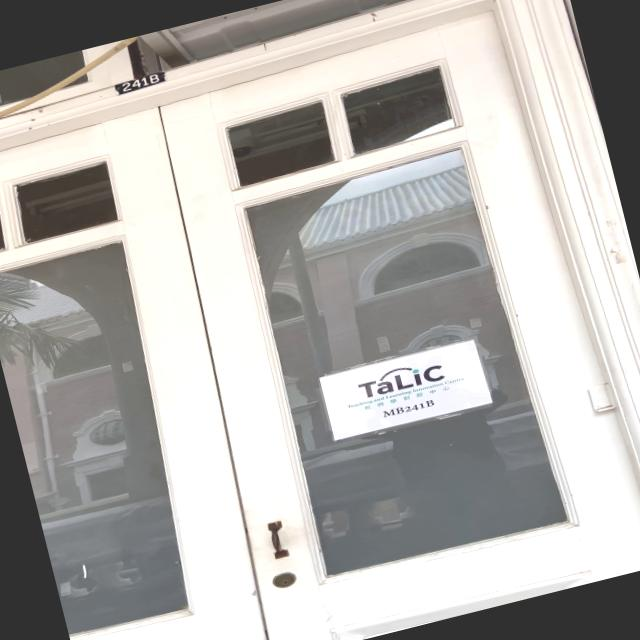room241b: (112, 70, 170, 98)
